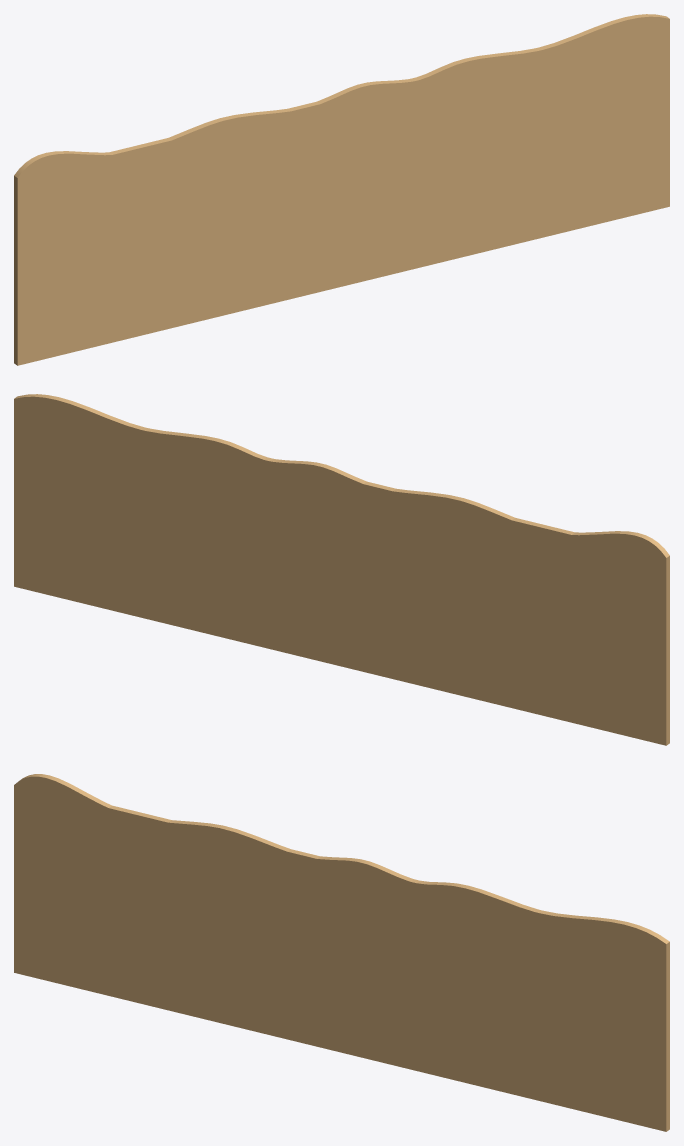
The model's file is Counter Top 80 Live Edge.fbx.
3 renders of one model, top to bottom at view 1: azimuth 30°, elevation 25°; view 2: azimuth 150°, elevation 25°; view 3: azimuth 330°, elevation 25°, orthographic.
Visible parts, largest first — view 1: Body_1; view 2: Body_1; view 3: Body_1.
Part boxes in pixels (box(x1,y1,x2,y2)): Body_1: box(14, 14, 669, 365); Body_1: box(14, 394, 669, 745); Body_1: box(14, 774, 669, 1131).
Size of the model in its own units: 2.03 by 0.0191 by 0.603.
